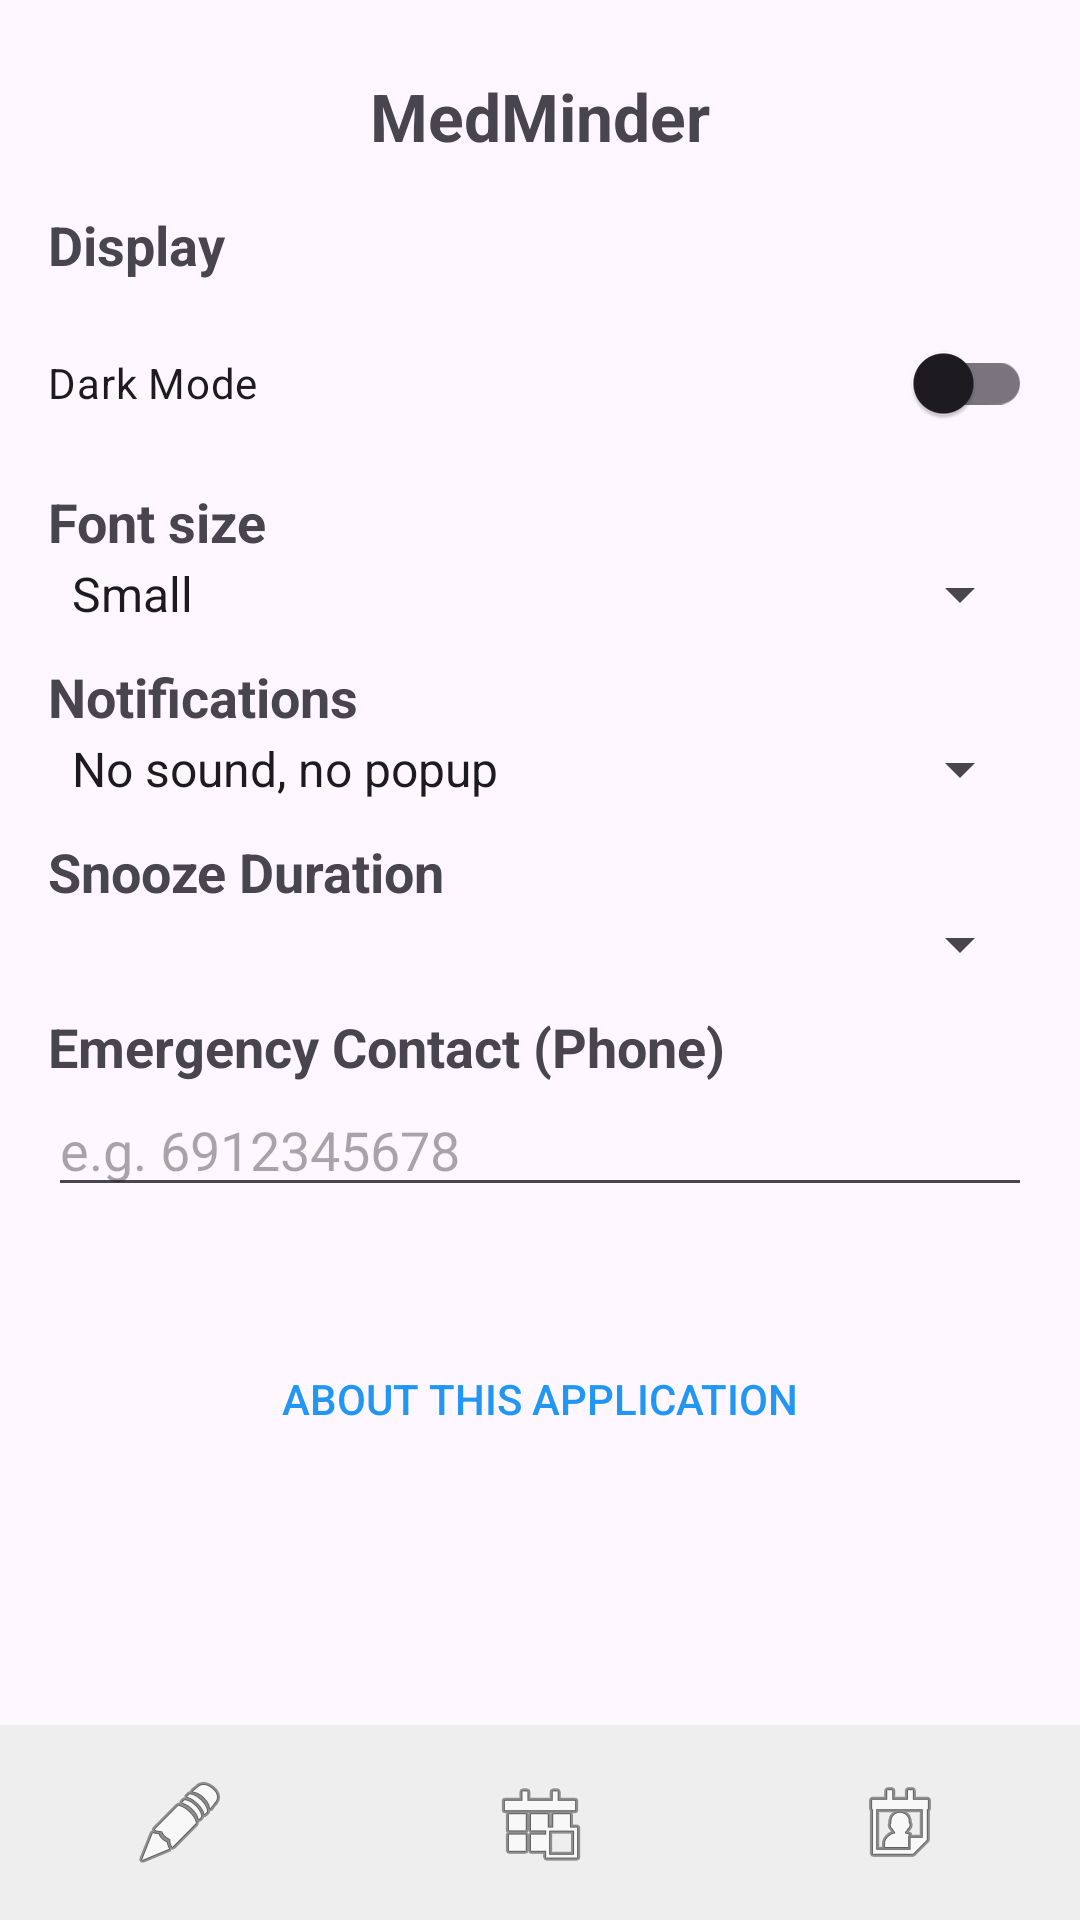

Screen size 1080*1920. Icon name, then its center in pixels as point (x, y):
edit: point (179, 1822)
